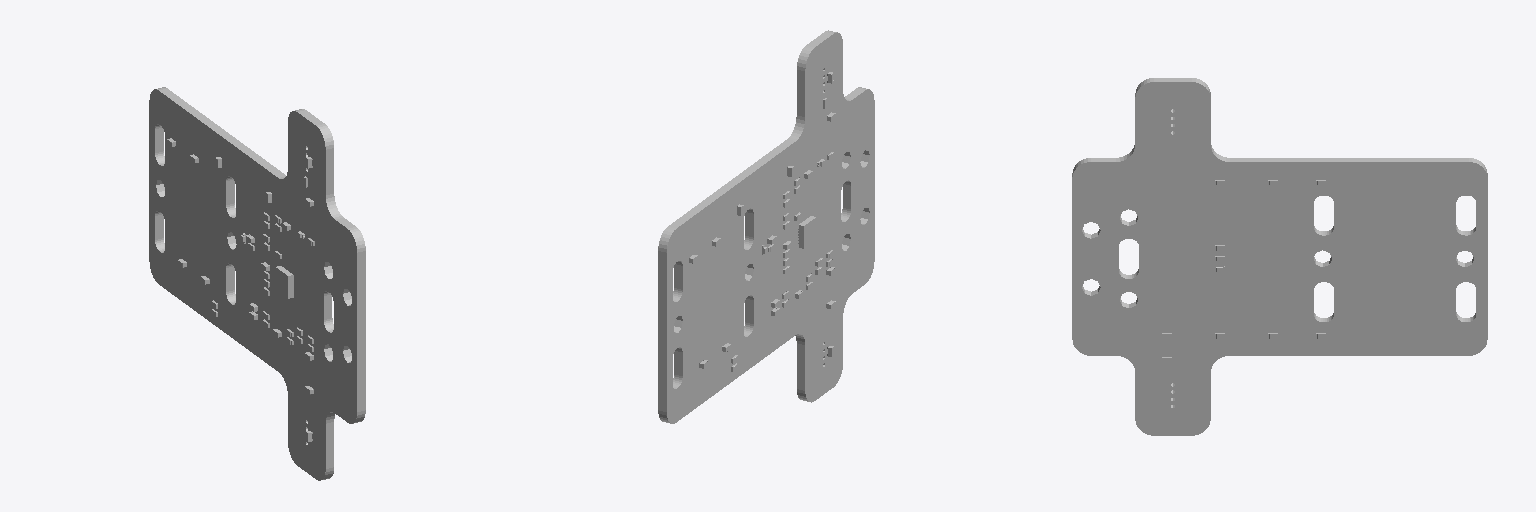
The model's file is front_bumper.obj.
3 renders of one model, left to right at view 1: azimuth 30°, elevation 25°; view 2: azimuth 150°, elevation 25°; view 3: azimuth 270°, elevation 25°, orthographic.
Visible parts, largest first — view 1: 3002-00_Front_Bumper; view 2: 3002-00_Front_Bumper; view 3: 3002-00_Front_Bumper.
Boxes of the visible parts, x1=… form: 3002-00_Front_Bumper: x1=149, y1=87, x2=365, y2=480; 3002-00_Front_Bumper: x1=658, y1=30, x2=874, y2=423; 3002-00_Front_Bumper: x1=1072, y1=78, x2=1487, y2=435.
Size of the model in its own units: 0.003 by 0.062 by 0.066.